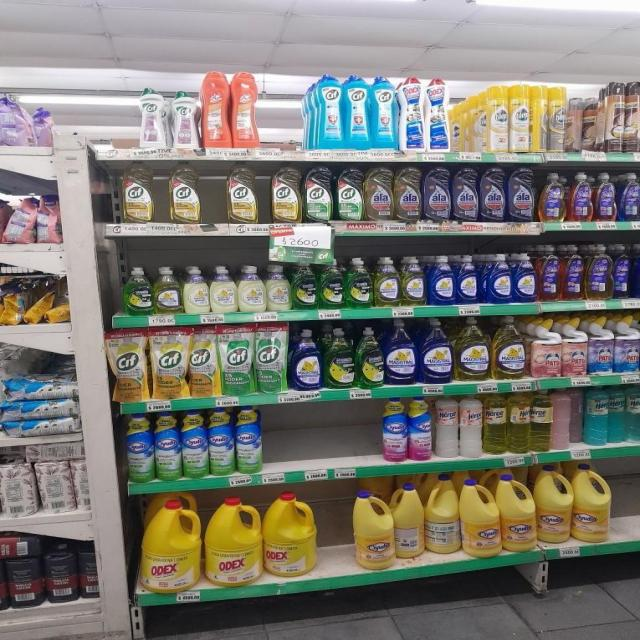ala_conc_amarillo: (365, 166, 393, 222), (394, 166, 422, 222)
ala_conc_azul: (507, 166, 536, 222), (423, 166, 450, 222), (479, 166, 506, 222), (452, 166, 478, 221)
cif_conc_bot_amarilla: (224, 160, 260, 224), (167, 161, 203, 224), (119, 161, 155, 223), (270, 162, 302, 224)
cif_conc_botella_verde: (304, 164, 334, 223), (335, 166, 364, 222)
cif_conc_sachet_amarillo: (110, 328, 148, 402), (150, 326, 187, 400), (188, 326, 218, 397)
cif_conc_sachet_verde: (220, 324, 254, 396), (254, 322, 287, 393)
heroe: (434, 394, 459, 459), (582, 384, 608, 446), (483, 391, 507, 455), (460, 394, 482, 458), (530, 388, 552, 452), (508, 391, 530, 454), (608, 384, 626, 444), (626, 383, 640, 442)
magistral_con_amarillo: (454, 316, 490, 382), (492, 315, 526, 380), (154, 266, 182, 314), (374, 256, 400, 307), (401, 256, 426, 306)
magistral_con_azul: (419, 317, 453, 383), (384, 318, 417, 385), (290, 328, 322, 390), (483, 253, 512, 304), (455, 254, 480, 305), (513, 252, 536, 303)
magistral_con_crema: (210, 265, 238, 313), (238, 265, 266, 312), (183, 265, 209, 314), (266, 264, 291, 311)
magistral_con_verde: (122, 266, 154, 316)
zorro: (538, 172, 566, 222), (560, 244, 584, 301), (586, 243, 610, 300), (538, 244, 560, 302), (568, 172, 592, 221), (594, 172, 617, 221), (612, 243, 632, 299), (619, 172, 640, 221), (632, 242, 640, 298)
